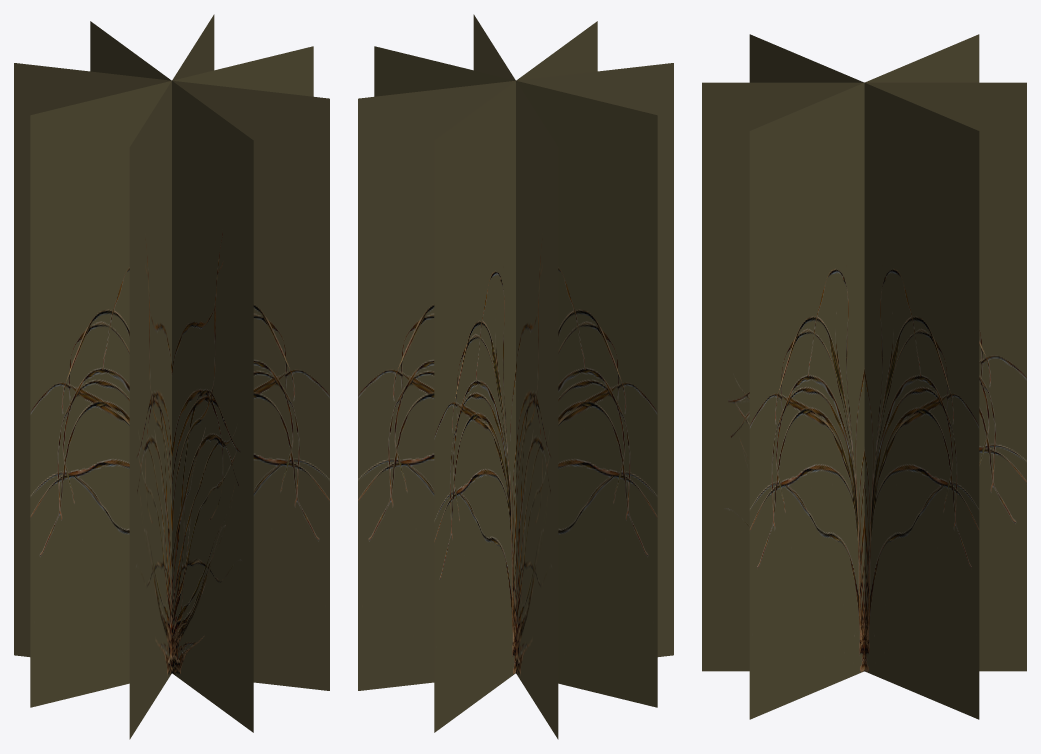
Rendered from Model_Plant_06_Large.fbx.
3 renders of one model, left to right at view 1: azimuth 30°, elevation 25°; view 2: azimuth 150°, elevation 25°; view 3: azimuth 270°, elevation 25°, orthographic.
Parts seen in each view (by area): view 1: CavePlant_03_L; view 2: CavePlant_03_L; view 3: CavePlant_03_L.
Boxes of the visible parts, left/top/right/bottom form: CavePlant_03_L: left=14, top=14, right=329, bottom=739; CavePlant_03_L: left=358, top=14, right=673, bottom=739; CavePlant_03_L: left=702, top=34, right=1026, bottom=719.
Bounding box in the file's own units: 77.09 × 154 × 77.09.
